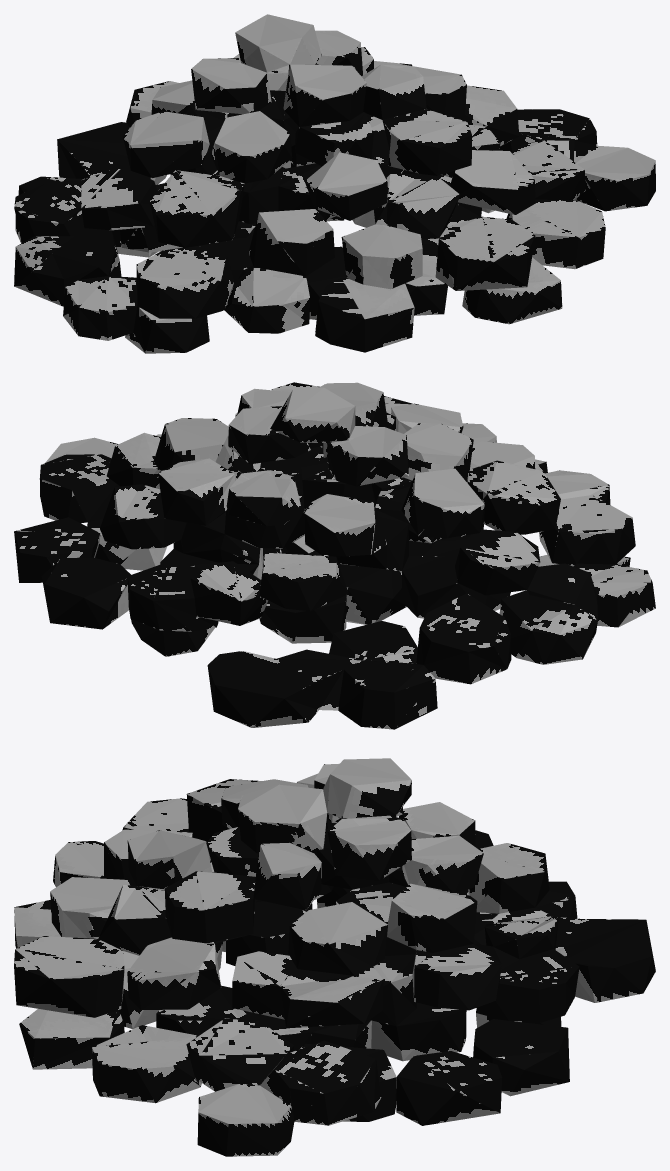
The picture shows the model from 3 angles, top to bottom: view 1: azimuth 30°, elevation 25°; view 2: azimuth 150°, elevation 25°; view 3: azimuth 270°, elevation 25°; orthographic projection. The views are drawn at different scales.
Visible parts, largest first — view 1: OBJ0a0; view 2: OBJ0a0; view 3: OBJ0a0.
Boxes of the visible parts, box(x1,y1,x2,y2) form: OBJ0a0: box(14, 14, 655, 353); OBJ0a0: box(14, 382, 655, 729); OBJ0a0: box(14, 758, 655, 1156).
Bounding box in the file's own units: 0.4212 × 0.1519 × 0.3601.
1 material, 1 textured.
